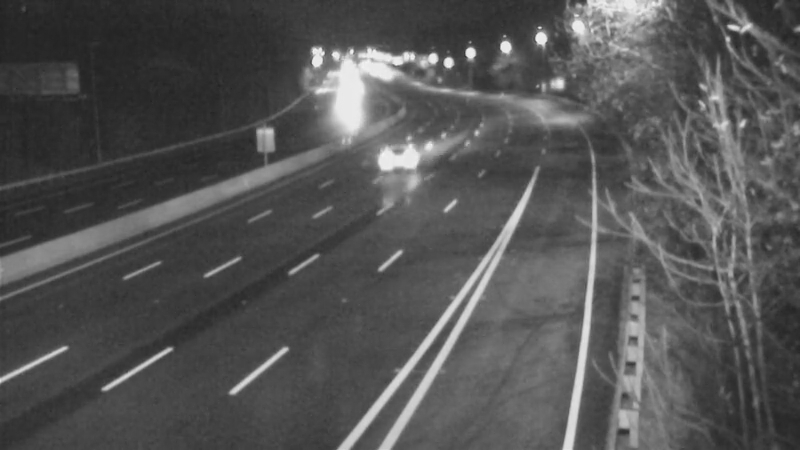vehicle: (362, 113, 442, 193)
